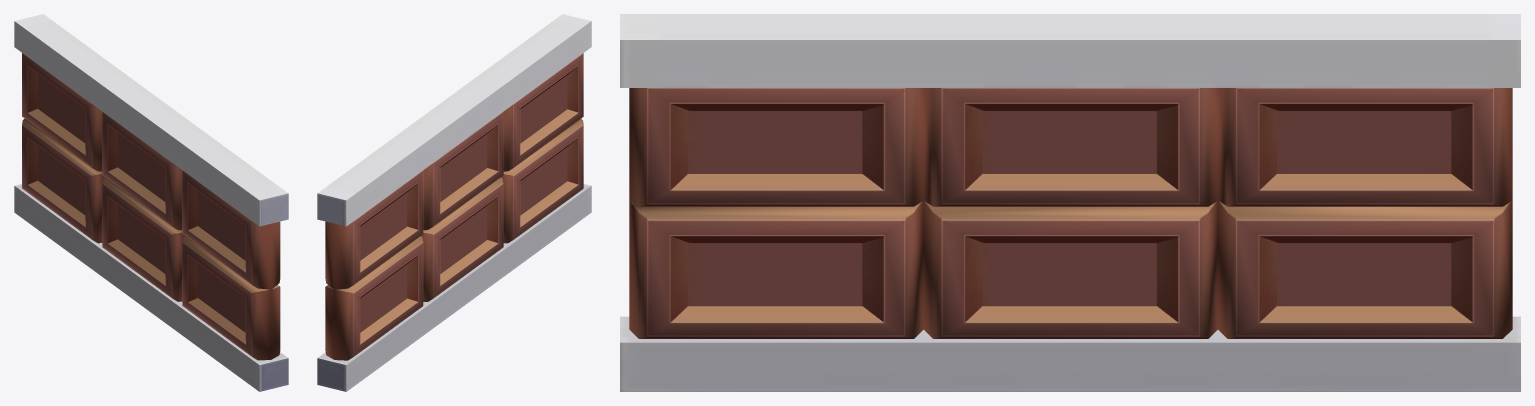
File: my_chocolatecafe_01_p_partition.glb
3 views of the same model, side by side, from view 1: azimuth 30°, elevation 25°; view 2: azimuth 150°, elevation 25°; view 3: azimuth 270°, elevation 25° (orthographic). The views are drawn at different scales.
Parts seen in each view (by area): view 1: my_chocolatecafe_01_p_partition; view 2: my_chocolatecafe_01_p_partition; view 3: my_chocolatecafe_01_p_partition.
Boxes of the visible parts, x1,y1,x2,y2 form: my_chocolatecafe_01_p_partition: [14, 14, 288, 391]; my_chocolatecafe_01_p_partition: [317, 14, 591, 391]; my_chocolatecafe_01_p_partition: [620, 14, 1520, 391].
Size of the model in its own units: 0.000788 by 0.00494 by 0.0115.
1 material, 1 textured.
